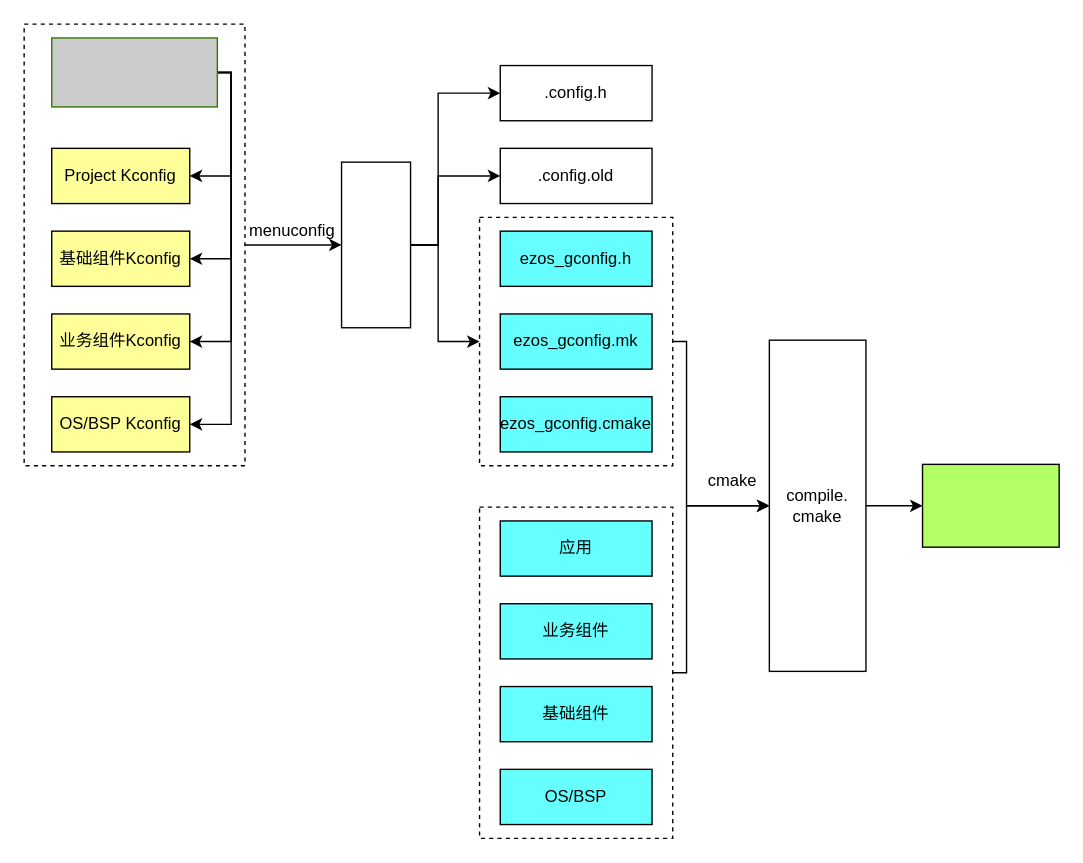
This 1083x863 diagram has some shape labels left out. Here are the shapes that lost their labels. From the top down, the centre of each, then its label:
At pixel 133 72: "Kconfig 一级索引".
At pixel 375 244: "Kconfig lib".
At pixel 990 505: "ezapp.bin".
